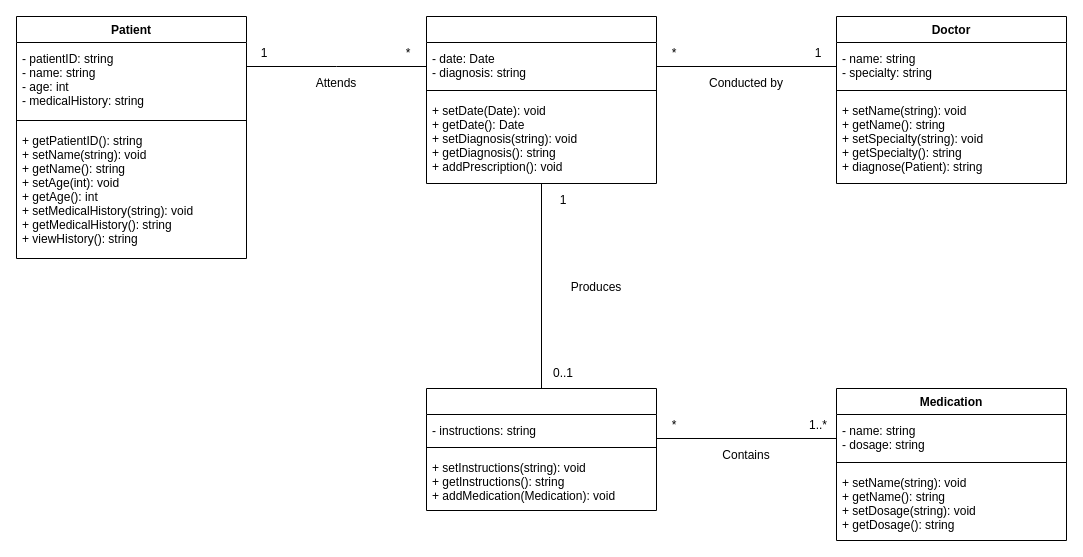
The diagram is 1083 pixels wide and 557 high, and some of its shapes have lost their labels. The box of each missing label's shape, as (x1, y1, x2, y2) in pixels:
Consultation: (426, 16, 656, 184)
Prescription: (426, 388, 656, 510)
